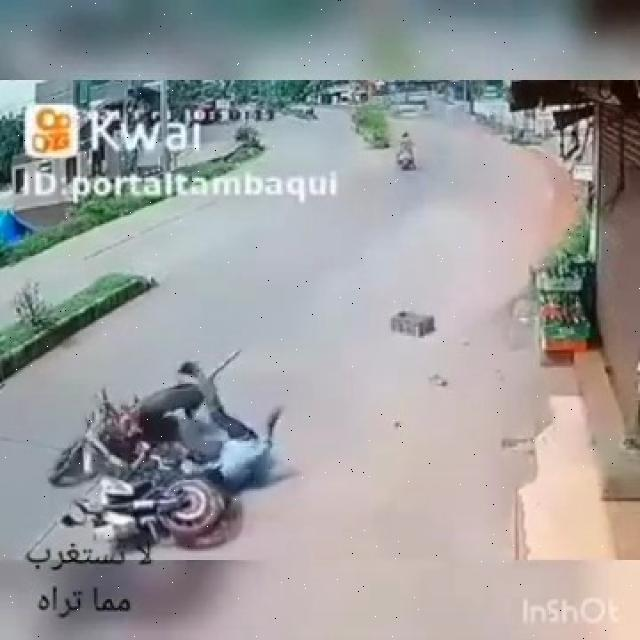accident: (51, 361, 289, 543)
